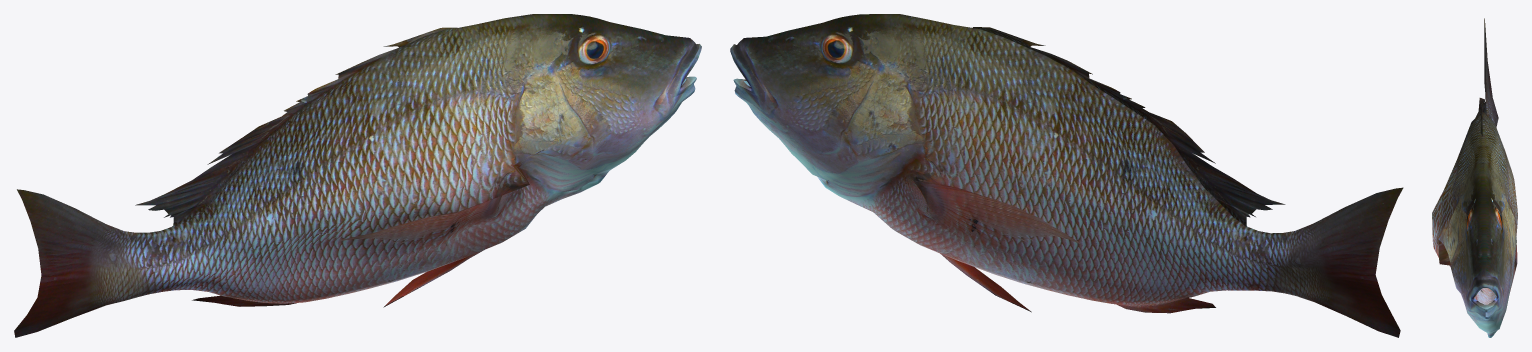
File: fish.glb
3 views of the same model, side by side, from view 1: azimuth 30°, elevation 25°; view 2: azimuth 150°, elevation 25°; view 3: azimuth 270°, elevation 25° (orthographic). The views are drawn at different scales.
Parts seen in each view (by area): view 1: Fish; view 2: Fish; view 3: Fish.
Boxes of the visible parts, x1,y1,x2,y2 form: Fish: (14,14,701,337); Fish: (730,14,1403,337); Fish: (1432,18,1517,337).
Bounding box in the file's own units: 168 × 64.05 × 23.95.
1 material, 1 textured.
